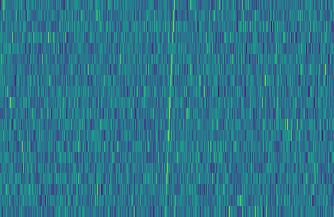signal: (161, 0, 178, 217)
